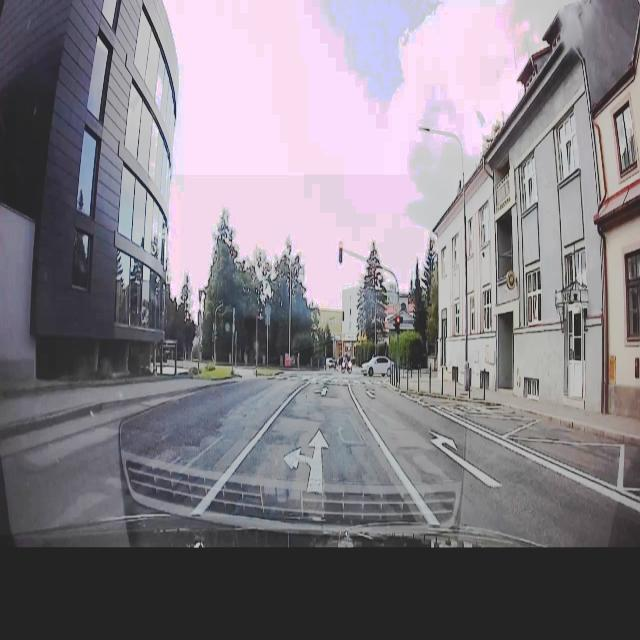Priority road: (394, 298, 402, 312)
